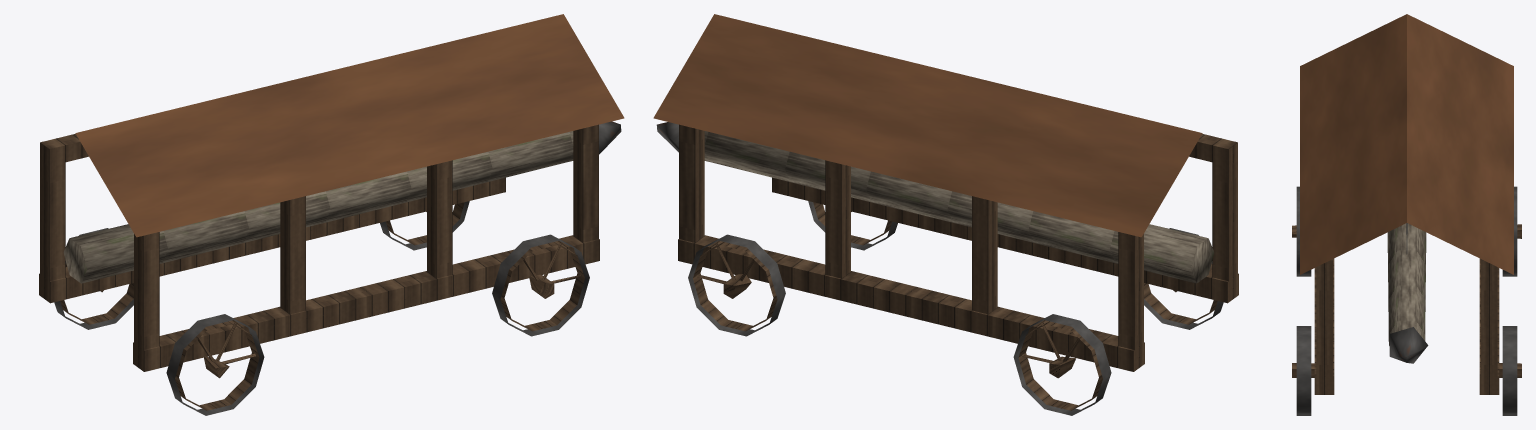
File: Battering_Ram_1_LOD1.gltf
The picture shows the model from 3 angles, left to right: view 1: azimuth 30°, elevation 25°; view 2: azimuth 150°, elevation 25°; view 3: azimuth 270°, elevation 25°; orthographic projection. The views are drawn at different scales.
Parts seen in each view (by area): view 1: Battering_Ram_1_LOD1; view 2: Battering_Ram_1_LOD1; view 3: Battering_Ram_1_LOD1.
Boxes of the visible parts, x1,y1,x2,y2 form: Battering_Ram_1_LOD1: (39, 14, 624, 415); Battering_Ram_1_LOD1: (653, 14, 1238, 415); Battering_Ram_1_LOD1: (1292, 14, 1521, 415).
Bounding box in the file's own units: 6.71 × 2.97 × 2.79.
4 materials, 4 textured.
